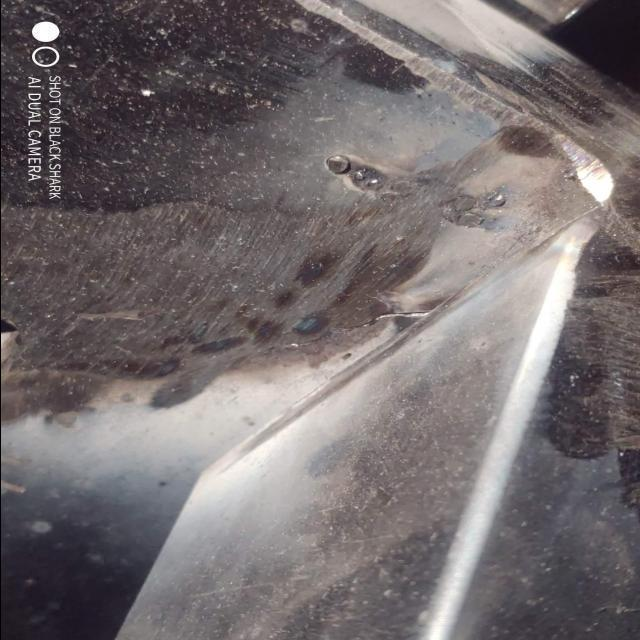defect: (279, 309, 434, 352)
